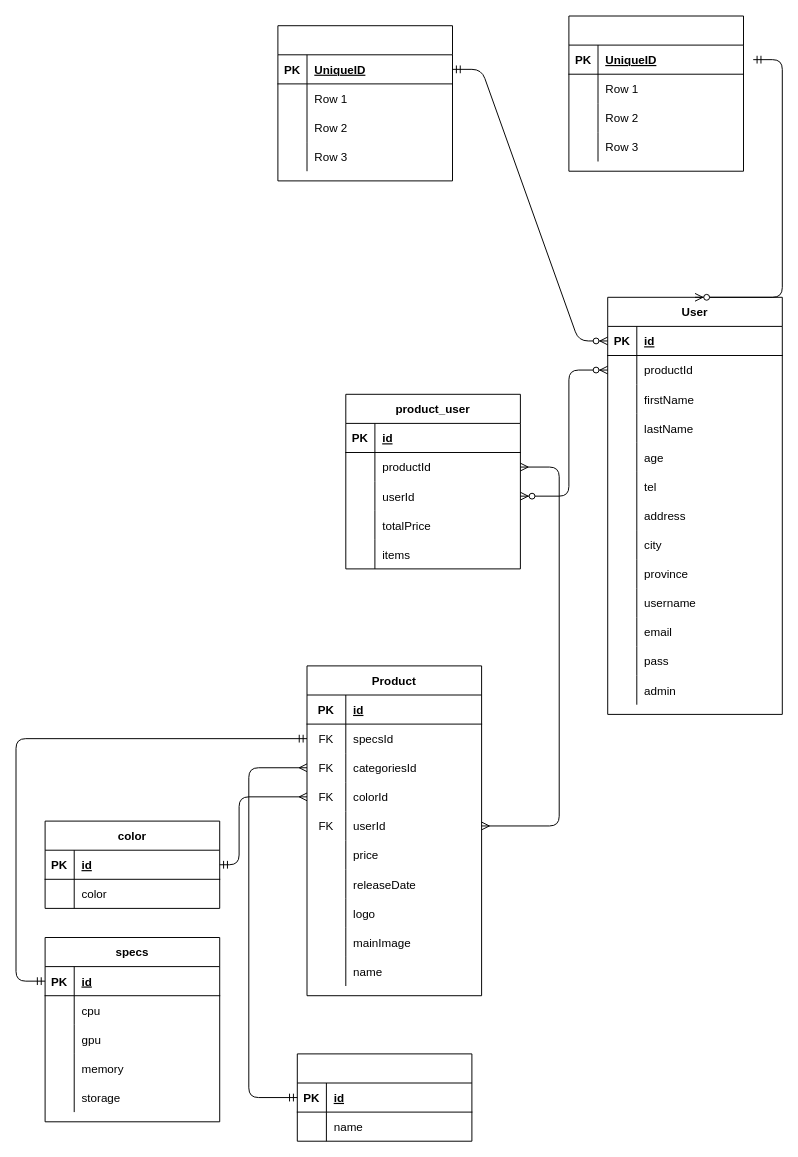
The diagram is 798 pixels wide and 1157 high, and some of its shapes have lost their labels. Here are the shapes that lost their labels. From the top down, the box of each, then its label:
(277, 25, 453, 181): payment
(568, 15, 744, 171): shipment
(296, 1053, 472, 1141): categories
